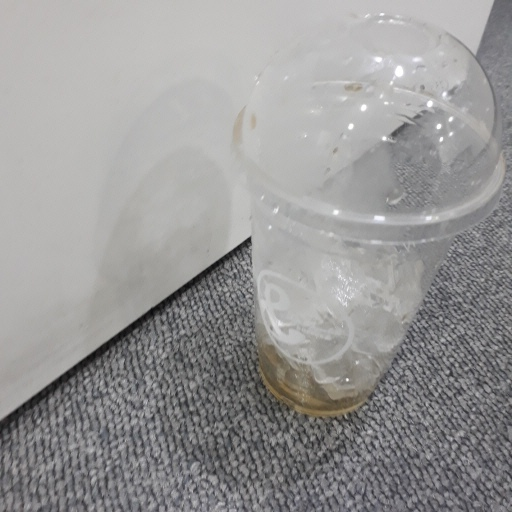Plastic_2: (231, 8, 505, 423)
